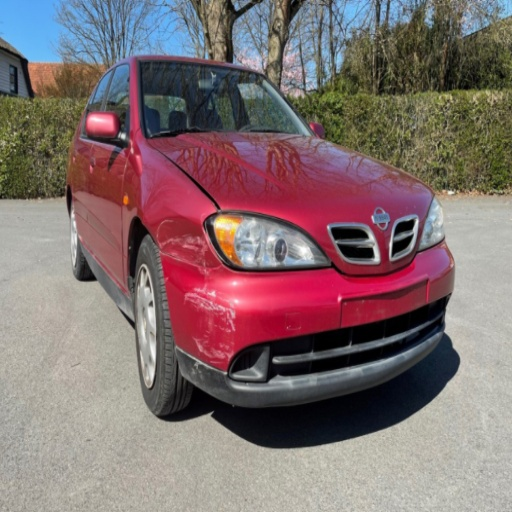dent: (155, 215, 222, 290)
scratch: (156, 219, 206, 252), (184, 292, 236, 319), (194, 283, 235, 308), (192, 334, 226, 359), (219, 342, 234, 363), (202, 245, 208, 281), (228, 313, 235, 330), (214, 325, 231, 332), (194, 360, 201, 372), (210, 361, 225, 364), (204, 334, 209, 337), (206, 330, 210, 333), (230, 341, 234, 344), (192, 369, 195, 373)
